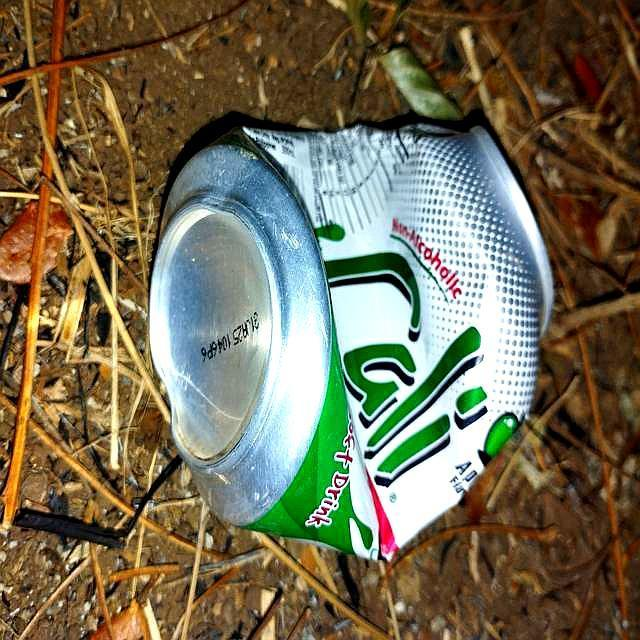Non-biodegradable: (151, 117, 559, 567)
